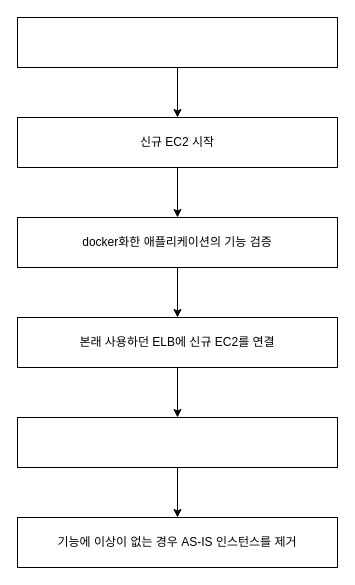
The diagram is 355 pixels wide and 585 high, and some of its shapes have lost their labels. Each missing label, with the box of its shape:
구 EC2 에서 어플리케이션 백업 후 Docker화: (16, 16, 338, 68)
실트래픽을 일정한 비율로 (1/전체대수) 서비스에 투입: (16, 416, 338, 468)
